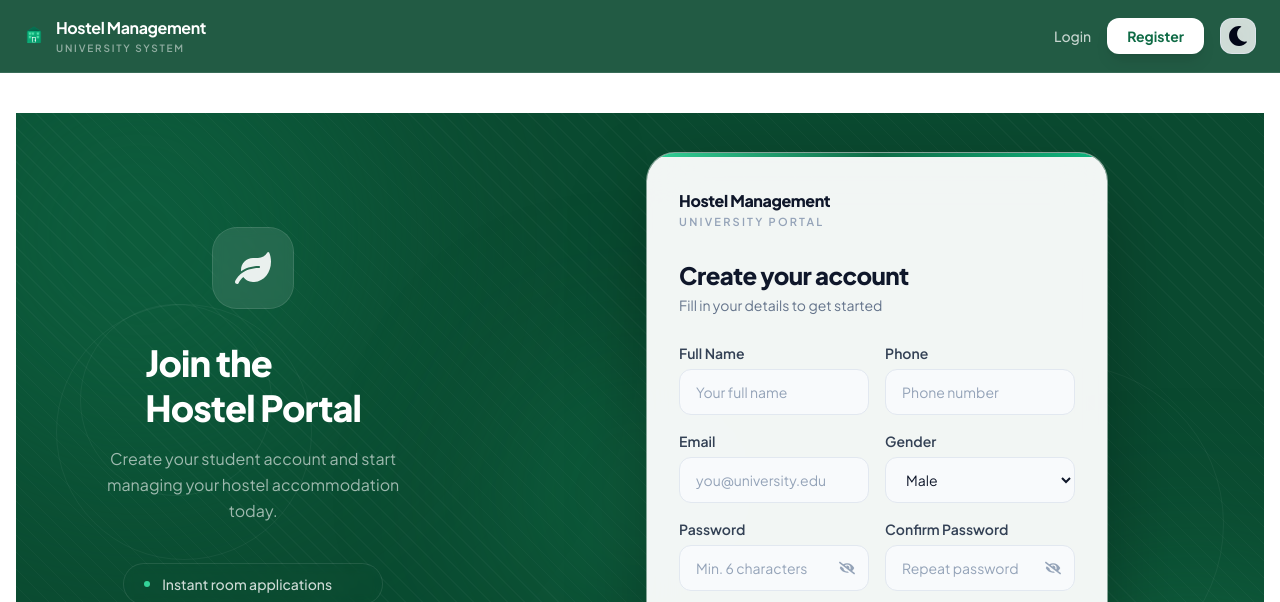
Scenario: RegisterPage Component › shows an error if passwords do not match
Note: Use exact strings to avoid the aria-label "Show password" conflict
Type "password123" into the password field labelled "Password". click: coordinates (774, 568)
box: [679, 545, 869, 591]
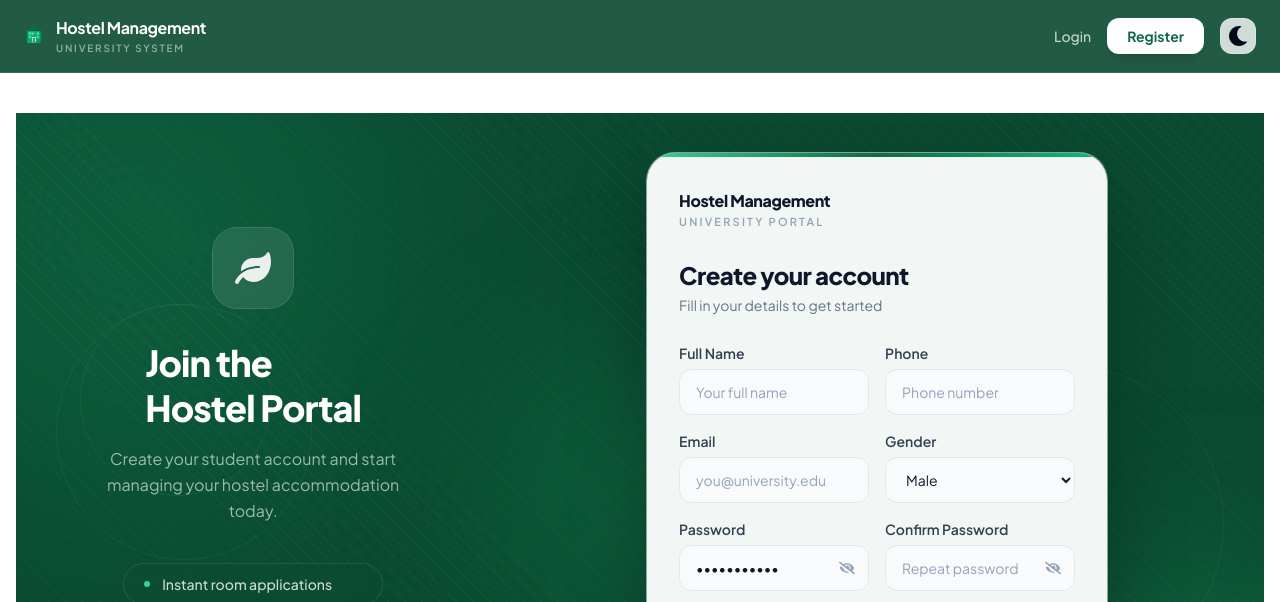
Type "password456" into the password field labelled "Confirm Password". click: coordinates (980, 568)
box: [885, 545, 1075, 591]
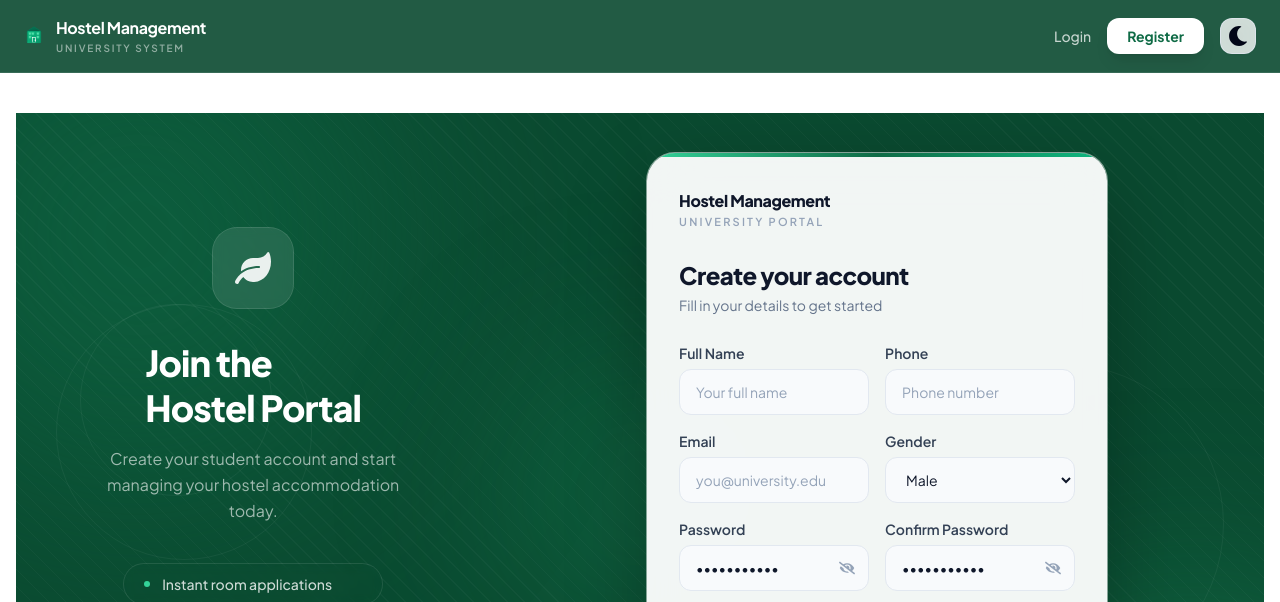
Type "John Doe" into the field labelled "Full Name". click: coordinates (774, 392)
box: [679, 369, 869, 415]
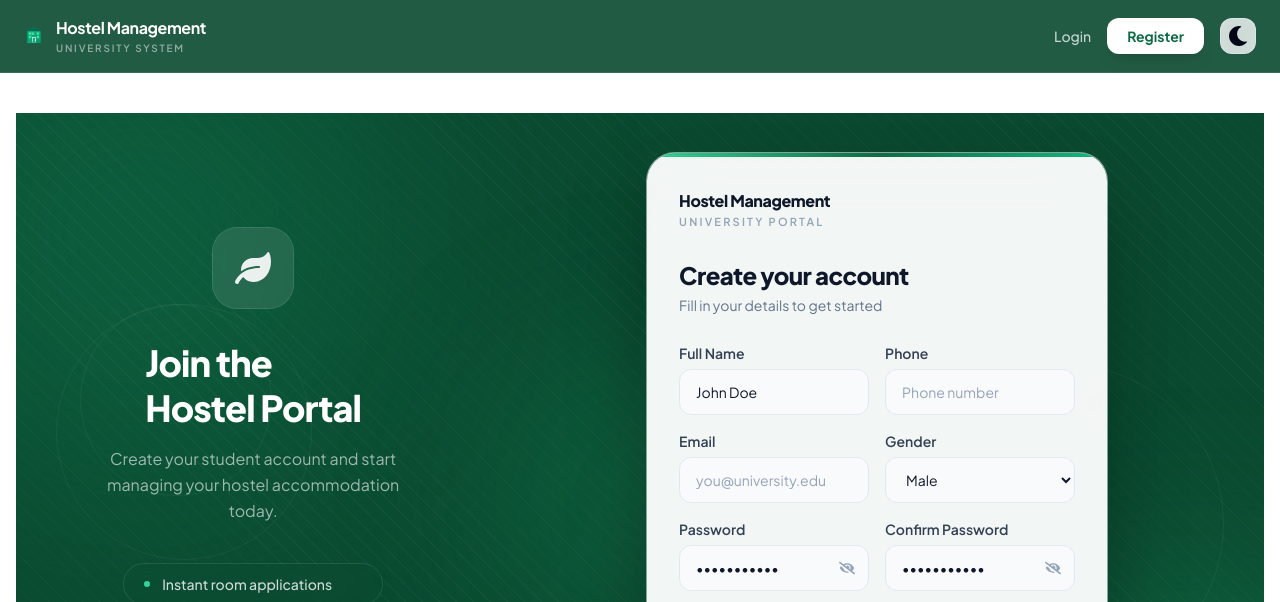
Type "john@uni.edu" into the field labelled "Email". click: coordinates (774, 480)
box: [679, 457, 869, 503]
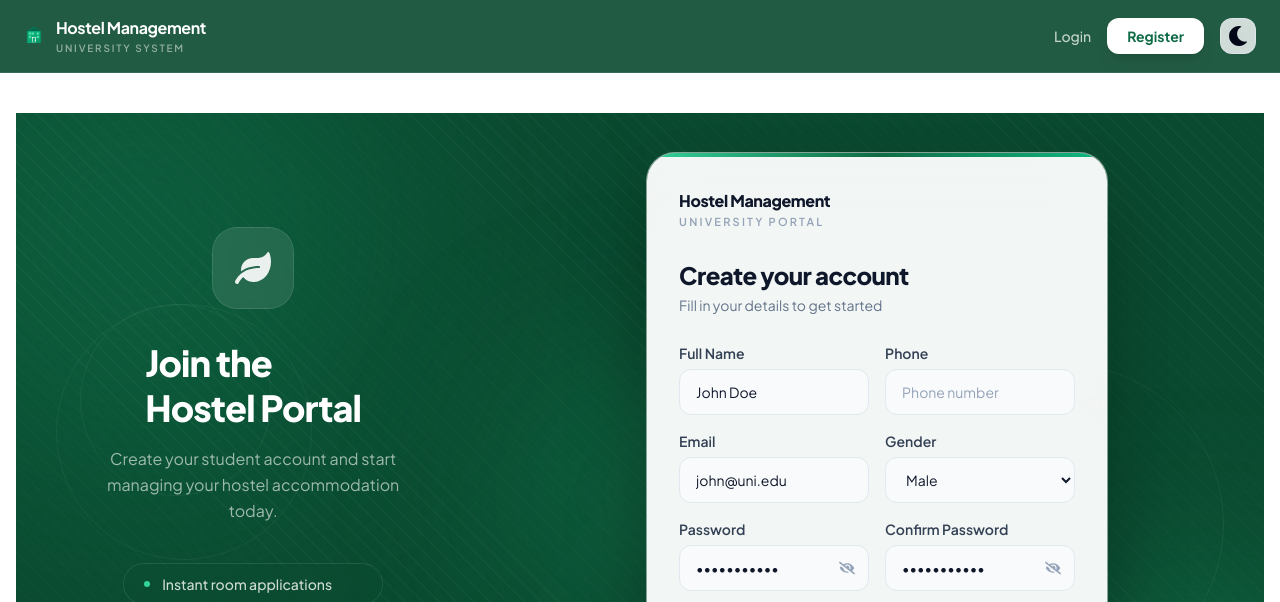
Type "1234567890" into the field labelled "Phone". click: coordinates (980, 392)
box: [885, 369, 1075, 415]
(page scrolled)
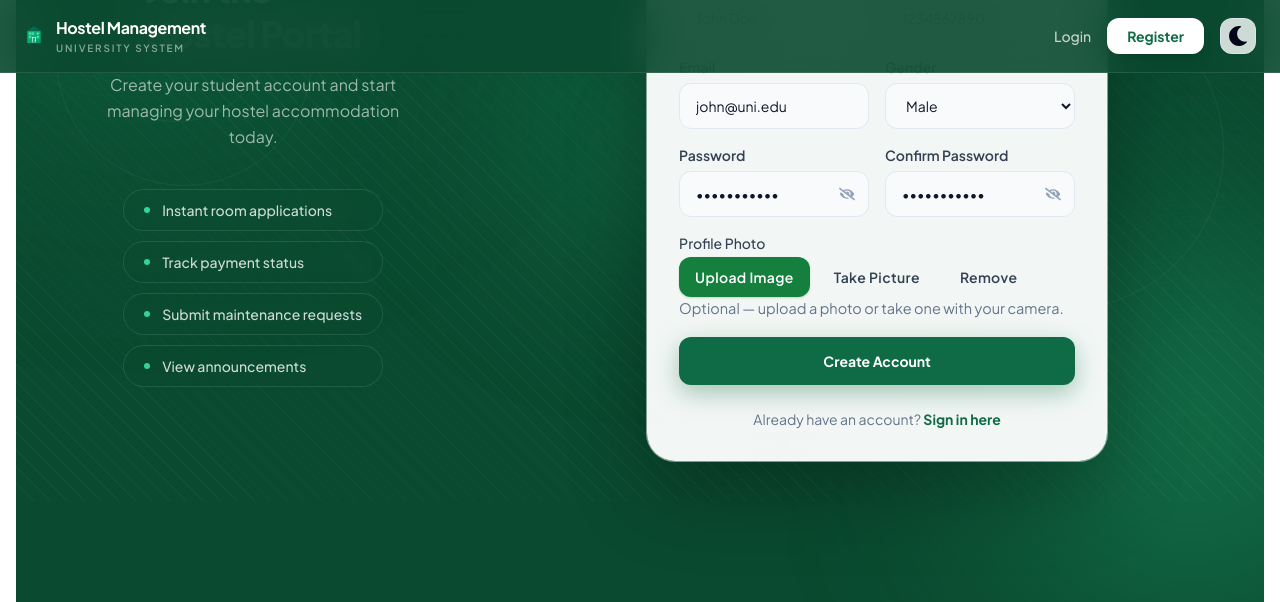
Click the button "Create Account". click: coordinates (877, 361)
box: [679, 337, 1075, 385]
(page scrolled)
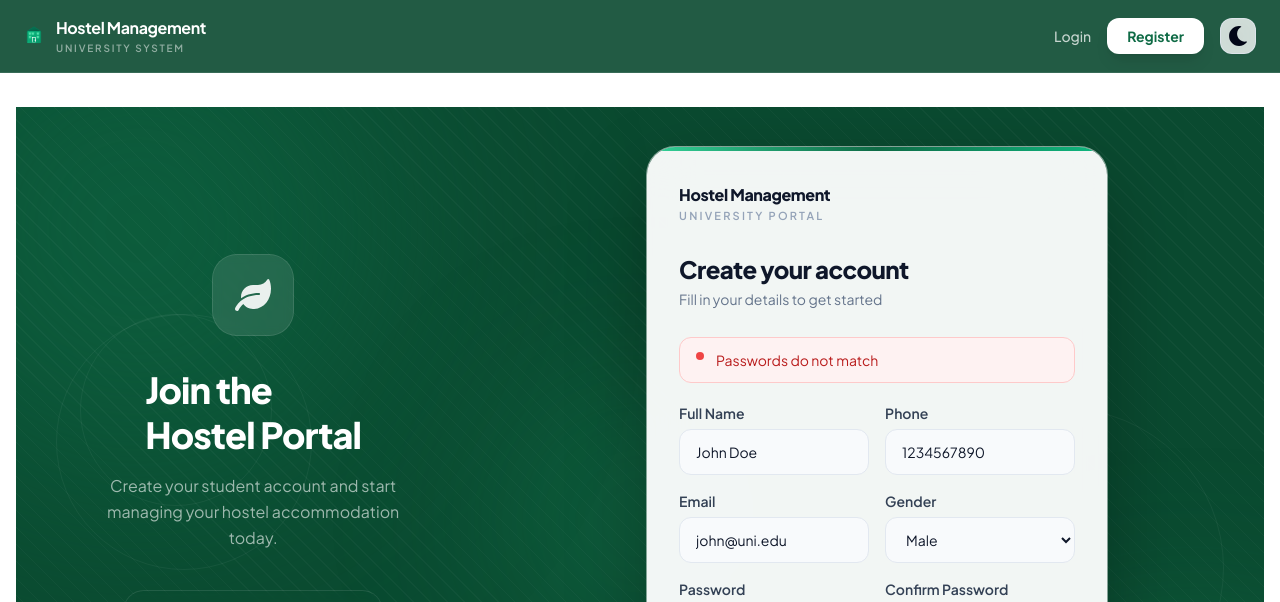
Result: the text "Passwords do not match" is shown at [716, 350, 878, 370]
